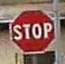stop: (8, 7, 57, 53)
